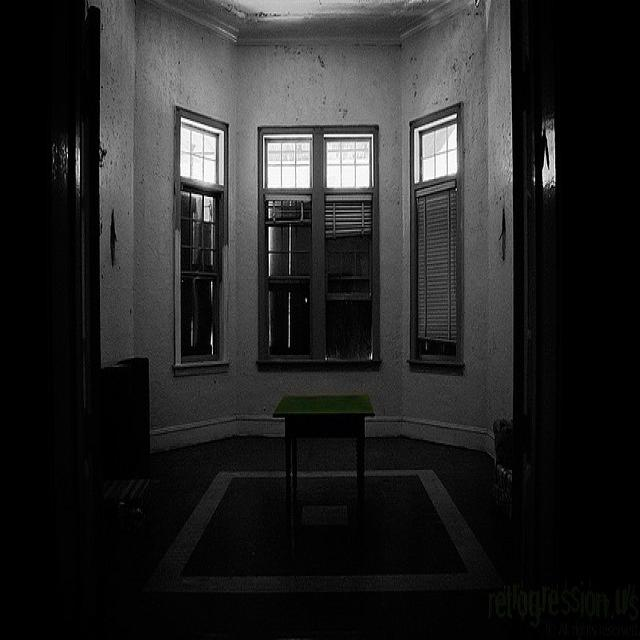Table: (268, 380, 388, 503)
